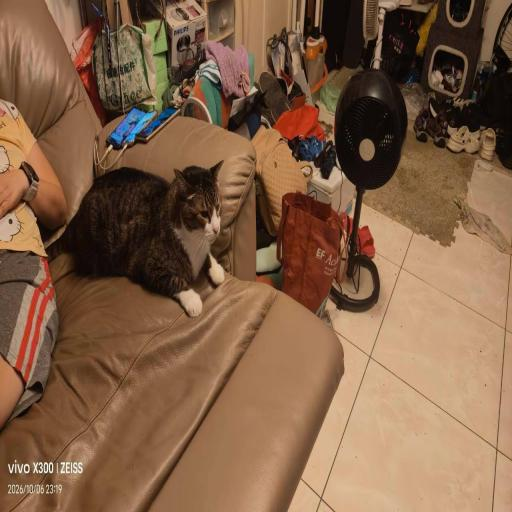cat: (81, 161, 222, 303)
